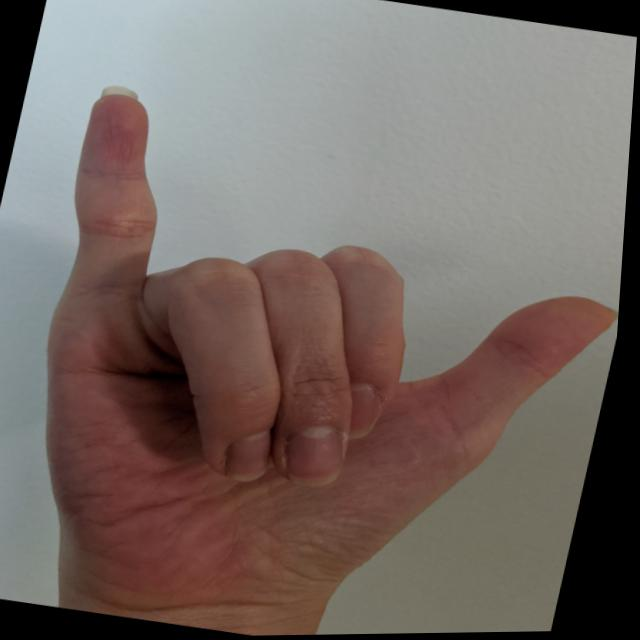Y: (0, 70, 635, 639)
